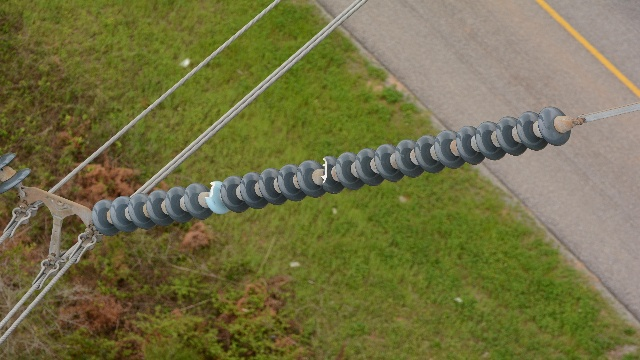broken_local: (322, 153, 331, 190), (205, 179, 220, 201)
insulator_unspecified: (90, 108, 571, 233), (0, 150, 35, 193)
